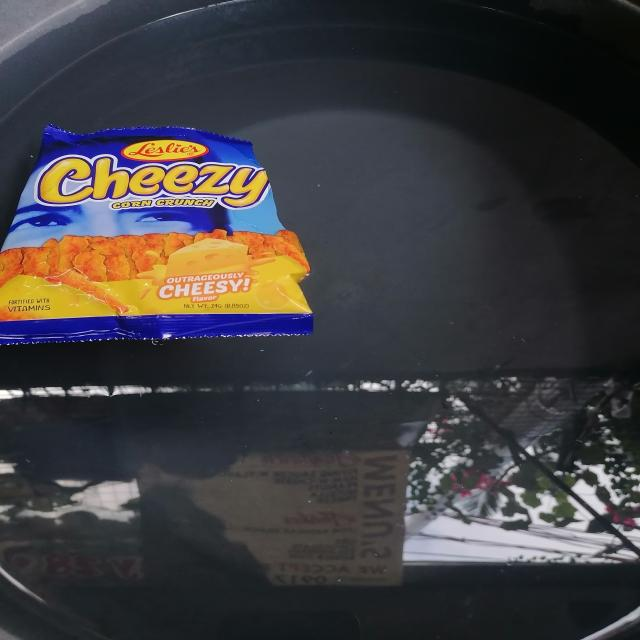Plastic Wrapper: (0, 125, 313, 344)
